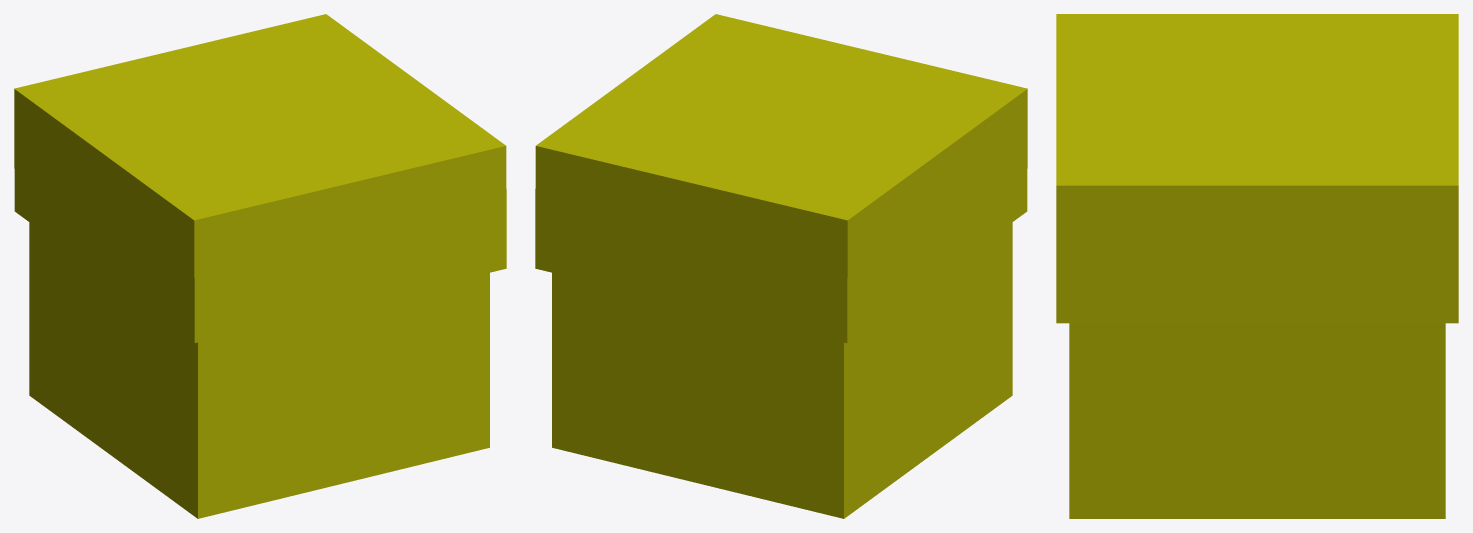
File: market_box2.glb
The picture shows the model from 3 angles, left to right: view 1: azimuth 30°, elevation 25°; view 2: azimuth 150°, elevation 25°; view 3: azimuth 270°, elevation 25°; orthographic projection. The views are drawn at different scales.
Visible parts, largest first — view 1: market_box2; view 2: market_box2; view 3: market_box2.
Boxes of the visible parts, <box> form: market_box2: <box>14,14,506,518</box>; market_box2: <box>535,14,1027,518</box>; market_box2: <box>1056,14,1458,518</box>.
Size of the model in its own units: 0.8565 by 0.7987 by 0.8548.
Materials: 1 (1 with a texture image).
